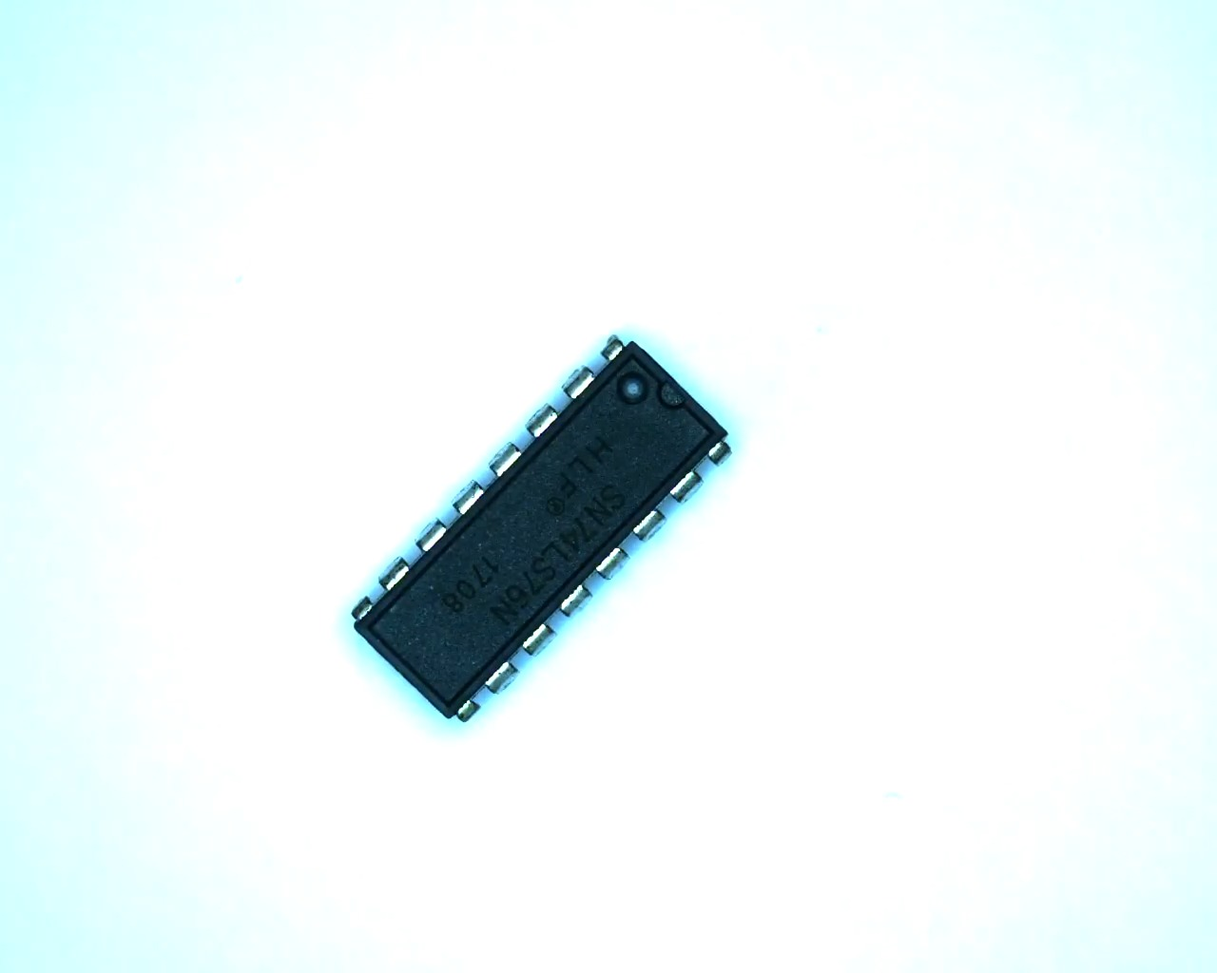IC: (336, 319, 750, 739)
notch: (652, 372, 690, 411)
